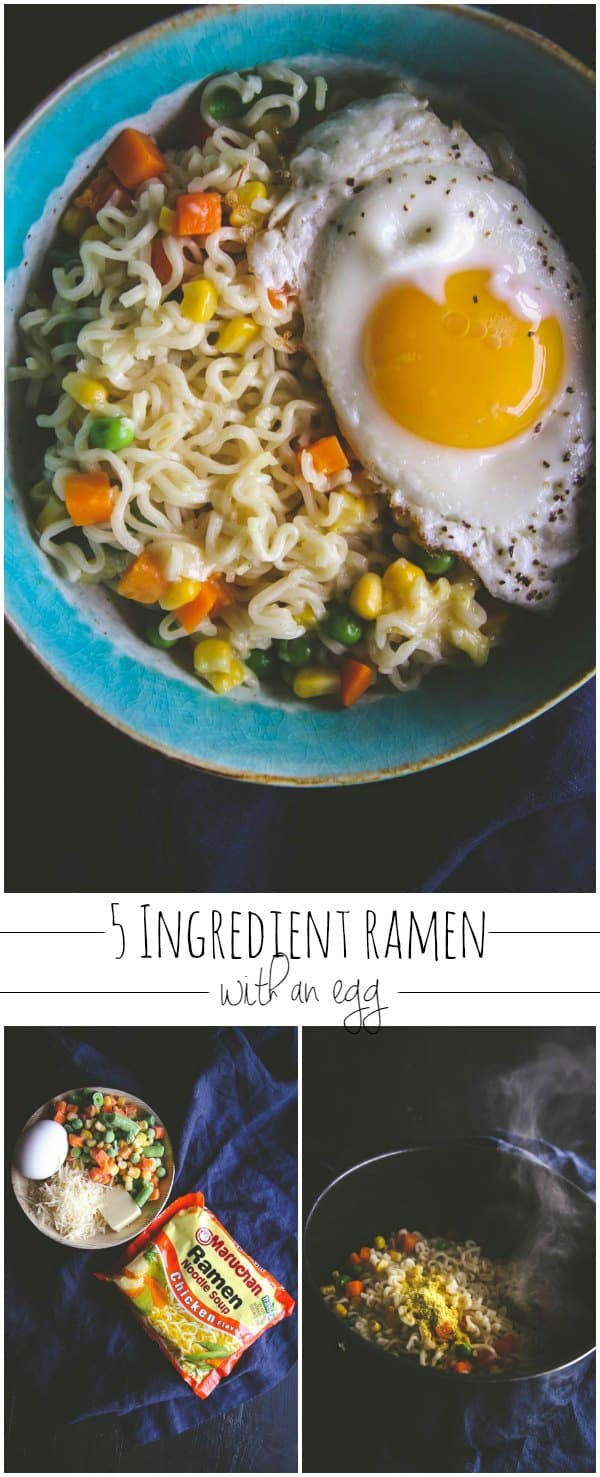fried egg: (334, 142, 600, 597)
plain rice: (29, 1169, 116, 1242)
plain spaghetti: (20, 88, 457, 699), (338, 1224, 548, 1367)
